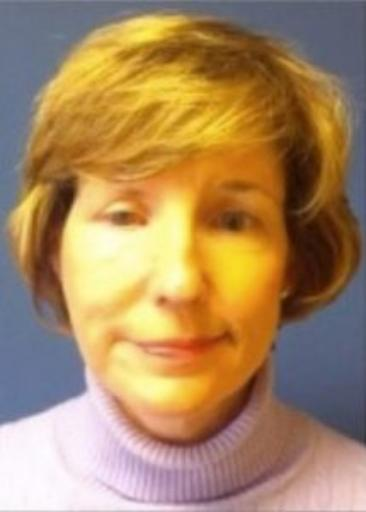left_eye: (212, 214, 265, 239)
left_lip_corner: (215, 319, 242, 348)
right_eye: (96, 208, 147, 230)
right_lip_corner: (110, 329, 141, 352)
